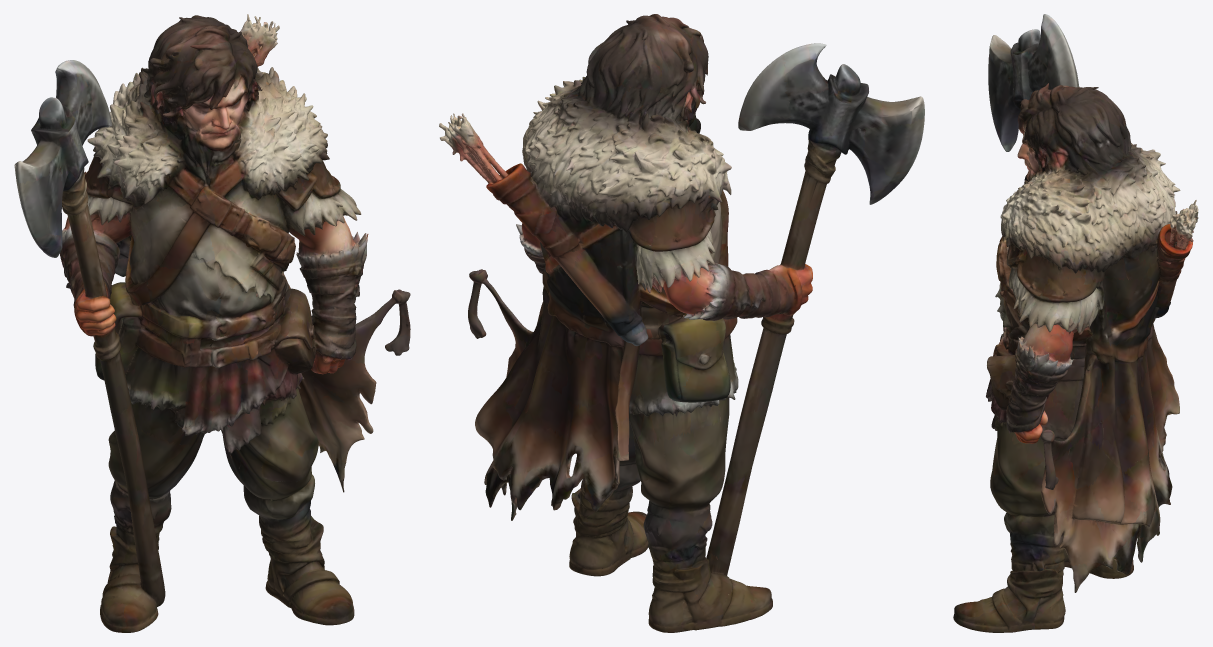
Rendered from halflingbarbarian.glb.
3 views of the same model, side by side, from view 1: azimuth 30°, elevation 25°; view 2: azimuth 150°, elevation 25°; view 3: azimuth 270°, elevation 25° (orthographic). The views are drawn at different scales.
Size of the model in its own units: 1.45 by 1.9 by 0.8264.
1 material, 1 textured.
